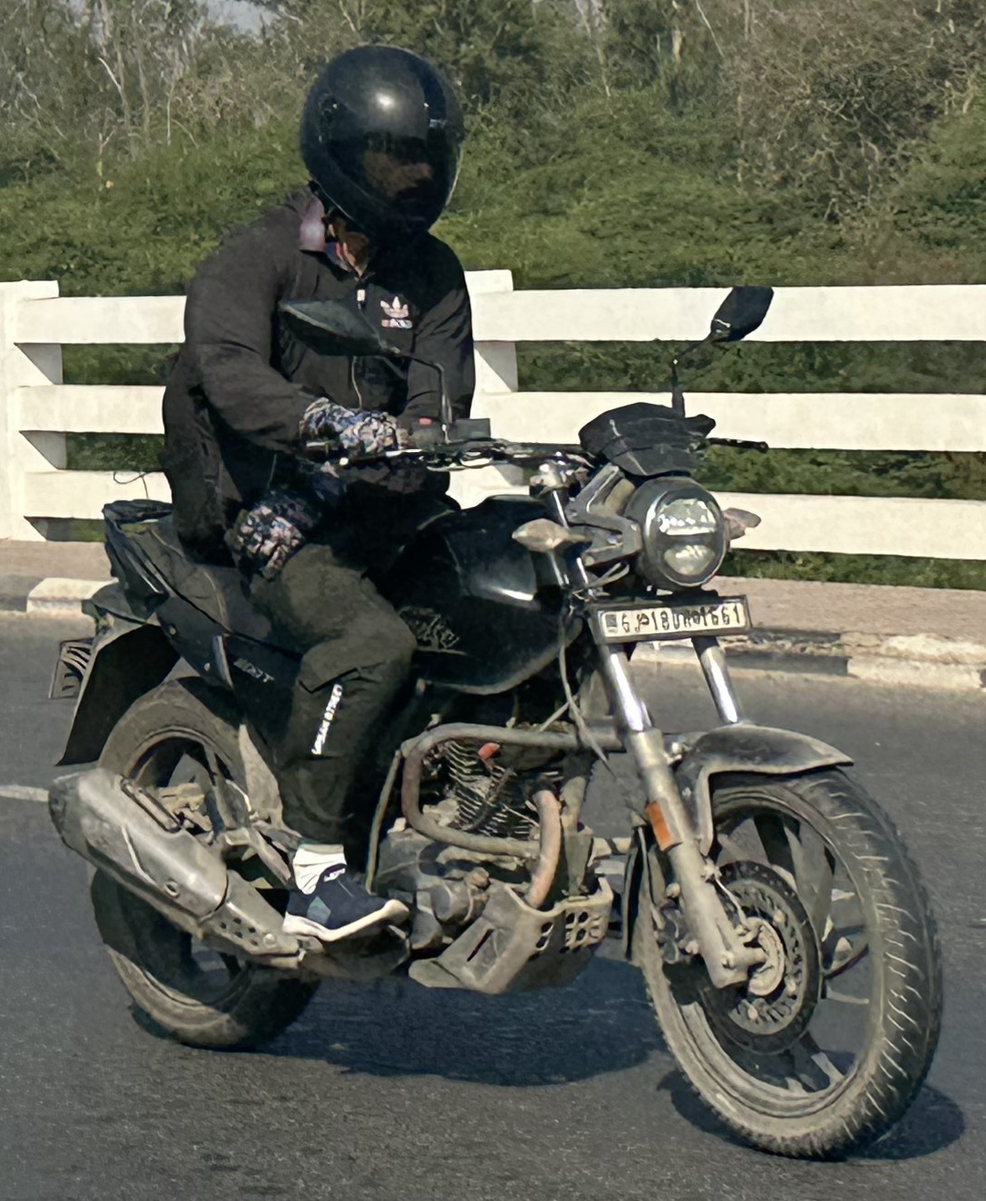BikeWithRider: (31, 30, 957, 1171)
Helmet: (281, 32, 482, 255)
